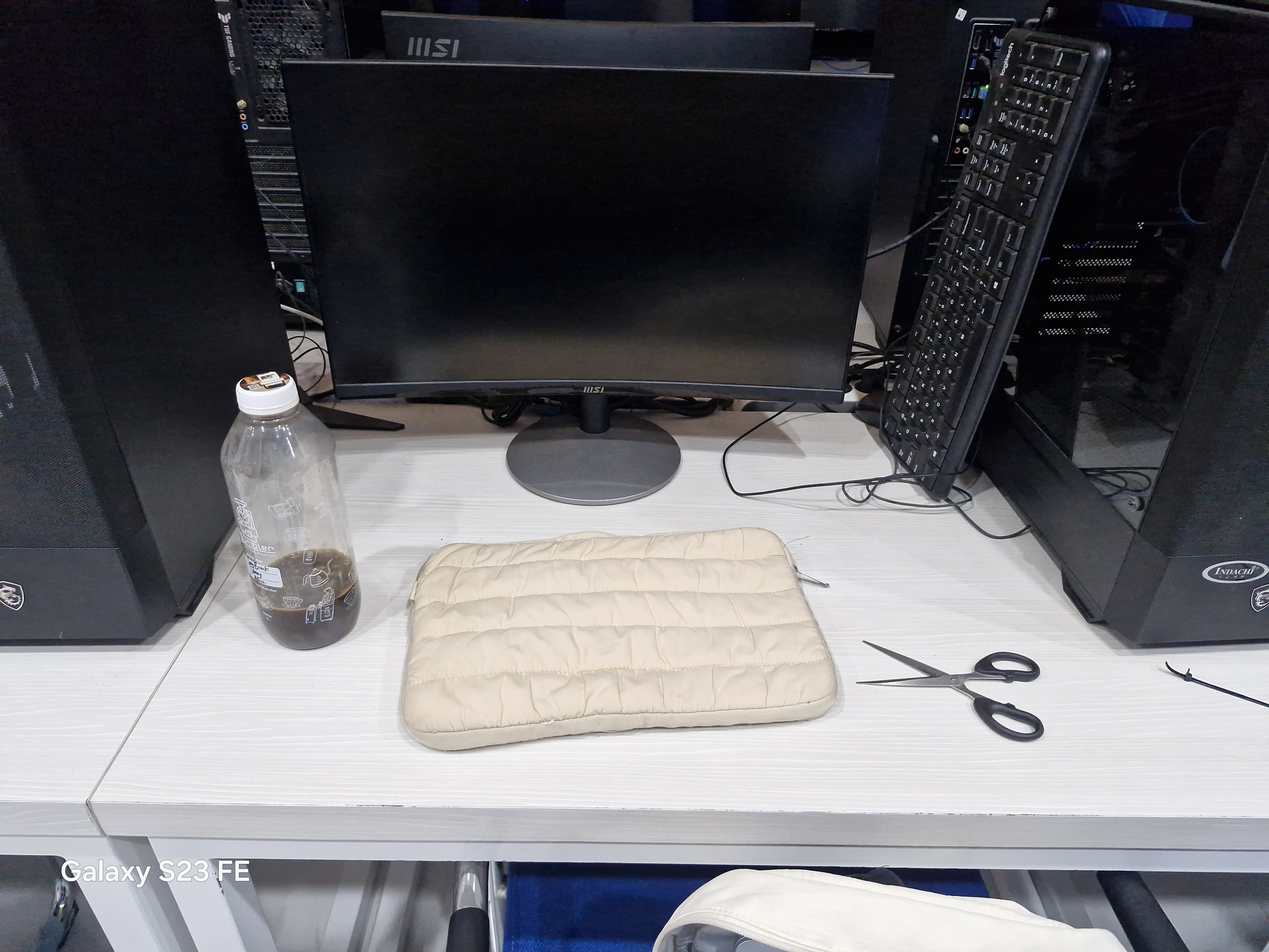bottle: (220, 372, 359, 649)
chair: (654, 869, 1125, 951)
keyboard: (880, 29, 1109, 497)
scissors: (858, 641, 1043, 741)
table-merged: (89, 419, 1268, 847)
tv: (284, 14, 890, 505)
